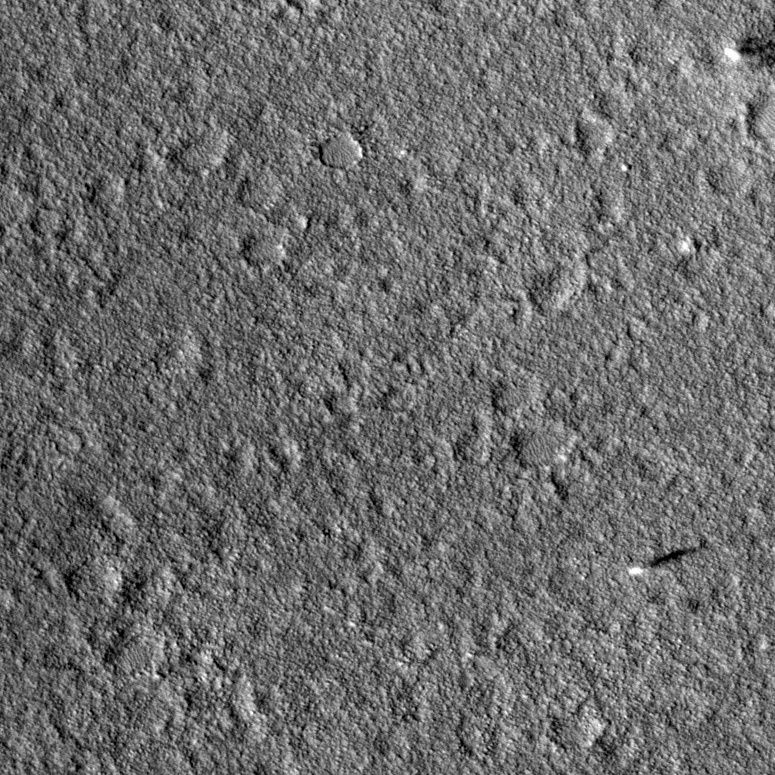dust_devil: (628, 545, 699, 578), (722, 41, 775, 63)
